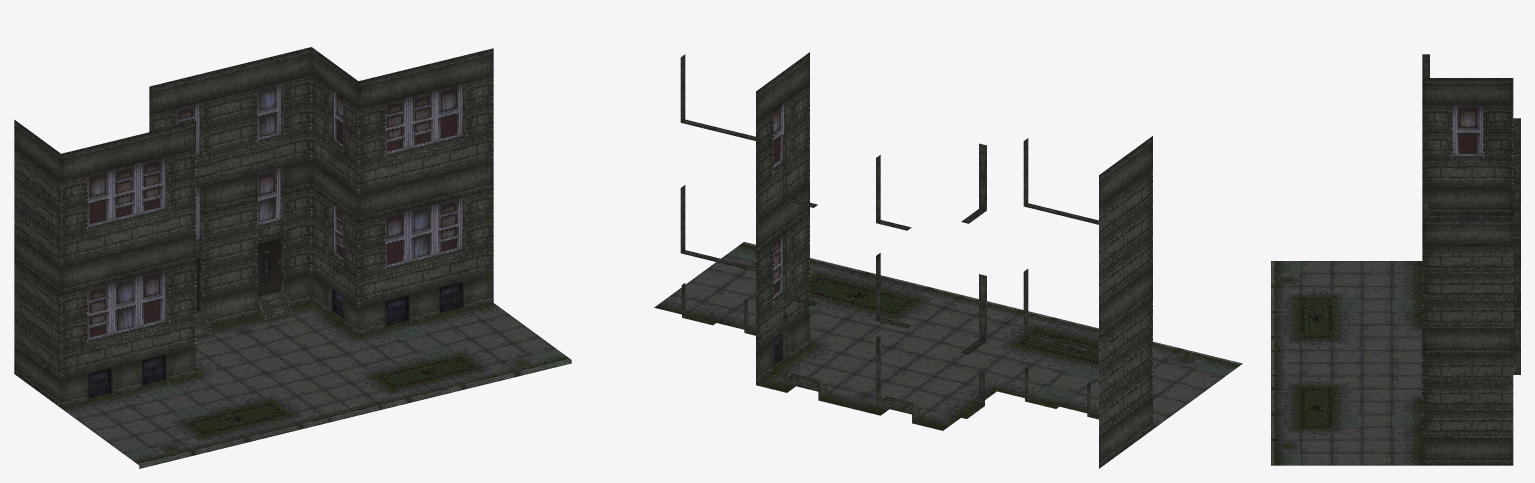
Rendered from sh1-building-11.glb.
3 views of the same model, side by side, from view 1: azimuth 30°, elevation 25°; view 2: azimuth 150°, elevation 25°; view 3: azimuth 270°, elevation 25° (orthographic). The views are drawn at different scales.
Parts seen in each view (by area): view 1: Object_2, Object_3; view 2: Object_3, Object_2; view 3: Object_2, Object_3.
Part boxes in pixels (bbox=[...]): Object_2: bbox=[14, 47, 493, 408]; Object_3: bbox=[61, 301, 571, 468]; Object_3: bbox=[654, 242, 1242, 430]; Object_2: bbox=[680, 52, 1152, 468]; Object_2: bbox=[1422, 54, 1520, 465]; Object_3: bbox=[1271, 261, 1422, 465].
Bounding box in the file's own units: 16 × 9.13 × 8.25.
Materials: 2 (2 with a texture image).
